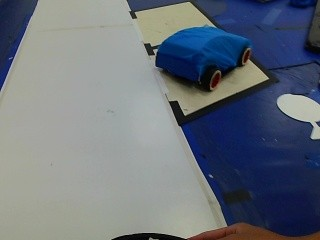car: (148, 26, 258, 91)
